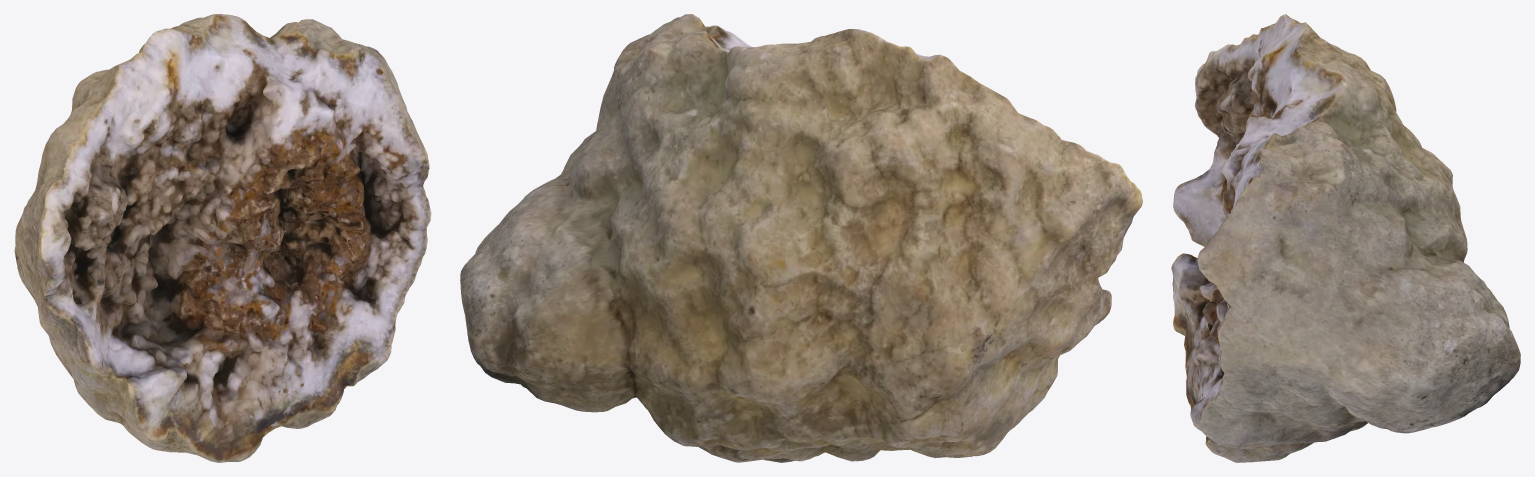
File: quartz_geode.glb
3 views of the same model, side by side, from view 1: azimuth 30°, elevation 25°; view 2: azimuth 150°, elevation 25°; view 3: azimuth 270°, elevation 25° (orthographic). The views are drawn at different scales.
Parts seen in each view (by area): view 1: Object_2; view 2: Object_2; view 3: Object_2.
Part boxes in pixels (box(x1,y1,x2,y2)): Object_2: box(14, 14, 431, 462); Object_2: box(460, 14, 1142, 462); Object_2: box(1171, 14, 1520, 462).
Bounding box in the file's own units: 2.07 × 1.73 × 1.41.
Materials: 1 (1 with a texture image).
